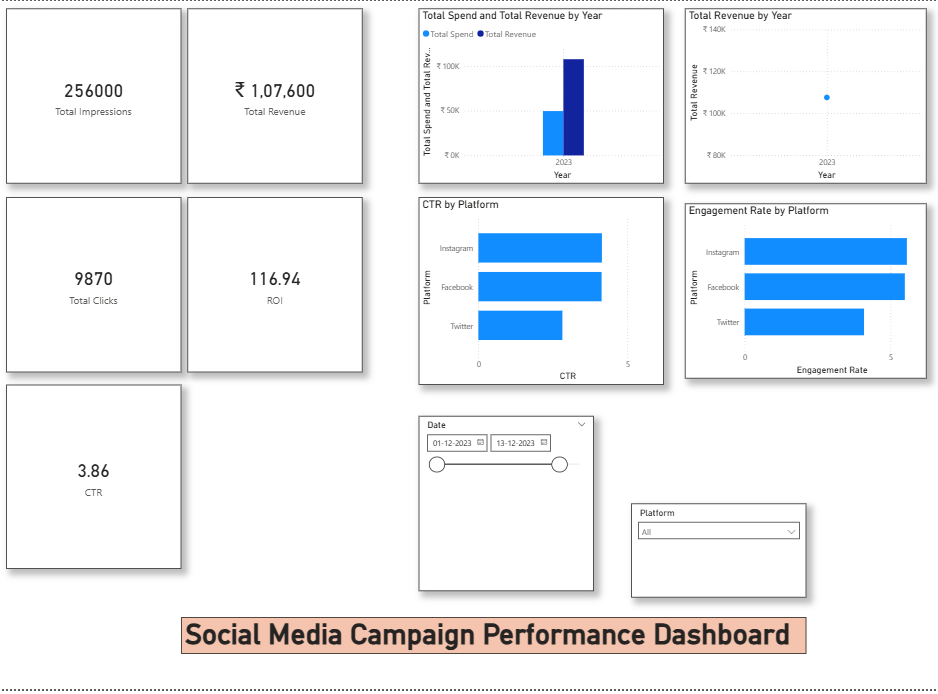

This screenshot's page, from the dashboard's own definition file:
{"tool":"powerbi","page":{"name":"Page 1","canvas":[1500,1100],"ordinal":0},"visuals":[{"type":"card","fields":{"Values":["social_media_campaign_data.Total Impressions"]},"box":[10,12,280,280],"z":0},{"type":"card","fields":{"Values":["social_media_campaign_data.Total Clicks"]},"box":[10,314,280,280],"z":1000},{"type":"card","fields":{"Values":["social_media_campaign_data.CTR"]},"box":[10,614,280,294],"z":2000},{"type":"card","fields":{"Values":["social_media_campaign_data.Total Revenue"]},"box":[300,12,280,280],"z":3000},{"type":"card","fields":{"Values":["social_media_campaign_data.ROI"]},"box":[300,314,280,280],"z":4000},{"type":"lineChart","fields":{"Category":["social_media_campaign_data.Date.Variation.Date Hierarchy.Year","social_media_campaign_data.Date.Variation.Date Hierarchy.Quarter","social_media_campaign_data.Date.Variation.Date Hierarchy.Month","social_media_campaign_data.Date.Variation.Date Hierarchy.Day"],"Y":["social_media_campaign_data.Total Revenue"]},"box":[1096,12,386,280],"z":5000},{"type":"barChart","fields":{"Category":["social_media_campaign_data.Platform"],"Y":["social_media_campaign_data.CTR"]},"box":[670,314,392,300],"z":6000},{"type":"clusteredColumnChart","fields":{"Category":["social_media_campaign_data.Date.Variation.Date Hierarchy.Year","social_media_campaign_data.Date.Variation.Date Hierarchy.Quarter","social_media_campaign_data.Date.Variation.Date Hierarchy.Month","social_media_campaign_data.Date.Variation.Date Hierarchy.Day"],"Y":["social_media_campaign_data.Total Spend","social_media_campaign_data.Total Revenue"]},"box":[670,12,392,280],"z":7000},{"type":"barChart","fields":{"Category":["social_media_campaign_data.Platform"],"Y":["social_media_campaign_data.Engagement Rate"]},"box":[1096,324,386,280],"z":8000},{"type":"slicer","fields":{"Values":["social_media_campaign_data.Platform"]},"box":[1010,664,280,150],"z":9000},{"type":"slicer","fields":{"Values":["social_media_campaign_data.Date"]},"box":[670,664,280,280],"z":10000},{"type":"textbox","title":"Social Media Campaign Performance Dashboard","box":[290,986,1000,58],"z":11000}]}

Visuals, with their boxes in screenshot pixels (x1, y1, x2, y2), scaled from the page's 1500x1100 canvas onto the 938x694 screenshot:
card - social_media_campaign_data.Total Impressions: <region>6, 8, 181, 184</region>
card - social_media_campaign_data.Total Clicks: <region>6, 198, 181, 375</region>
card - social_media_campaign_data.CTR: <region>6, 387, 181, 573</region>
card - social_media_campaign_data.Total Revenue: <region>188, 8, 363, 184</region>
card - social_media_campaign_data.ROI: <region>188, 198, 363, 375</region>
lineChart - social_media_campaign_data.Date.Variation.Date Hierarchy.Year x social_media_campaign_data.Date.Variation.Date Hierarchy.Quarter: <region>685, 8, 927, 184</region>
barChart - social_media_campaign_data.Platform x social_media_campaign_data.CTR: <region>419, 198, 664, 387</region>
clusteredColumnChart - social_media_campaign_data.Date.Variation.Date Hierarchy.Year x social_media_campaign_data.Date.Variation.Date Hierarchy.Quarter: <region>419, 8, 664, 184</region>
barChart - social_media_campaign_data.Platform x social_media_campaign_data.Engagement Rate: <region>685, 204, 927, 381</region>
slicer - social_media_campaign_data.Platform: <region>632, 419, 807, 514</region>
slicer - social_media_campaign_data.Date: <region>419, 419, 594, 596</region>
"Social Media Campaign Performance Dashboard" textbox: <region>181, 622, 807, 659</region>
